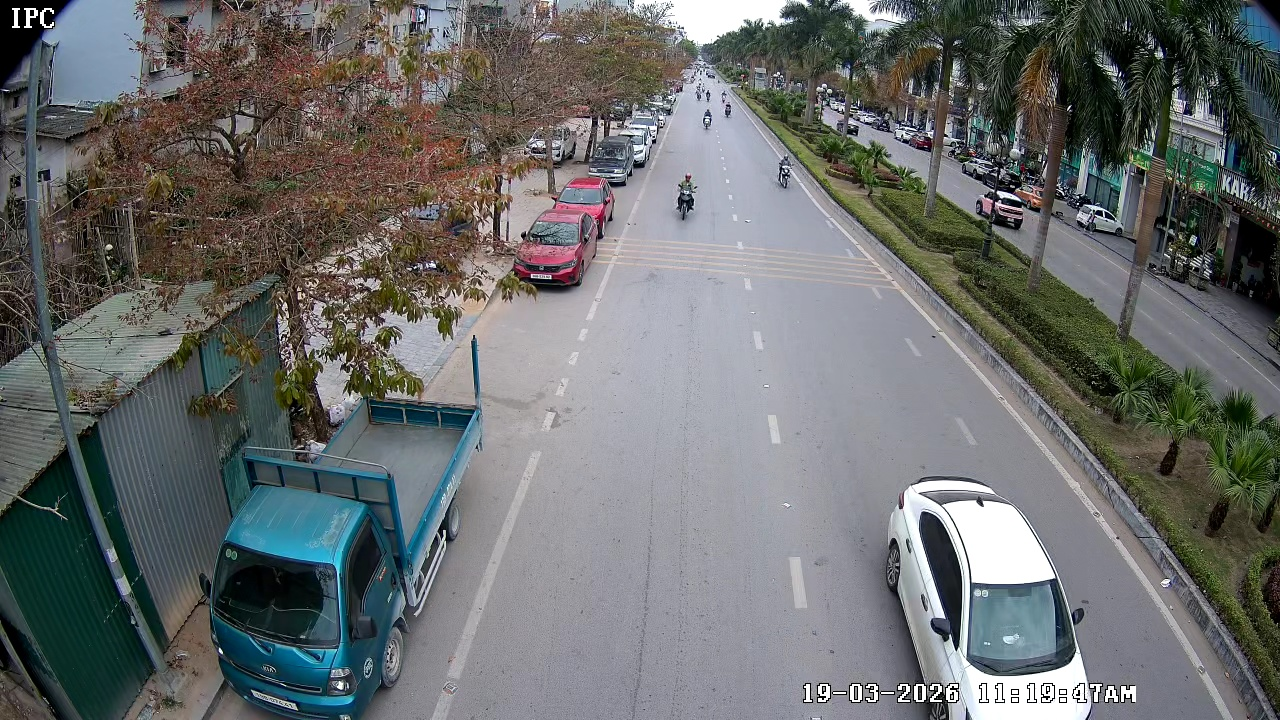car: (878, 455, 1108, 719), (513, 210, 591, 290), (584, 125, 639, 191), (554, 177, 615, 236)
motorbike: (668, 162, 705, 222), (773, 153, 799, 191), (697, 104, 717, 133), (722, 101, 738, 119)
